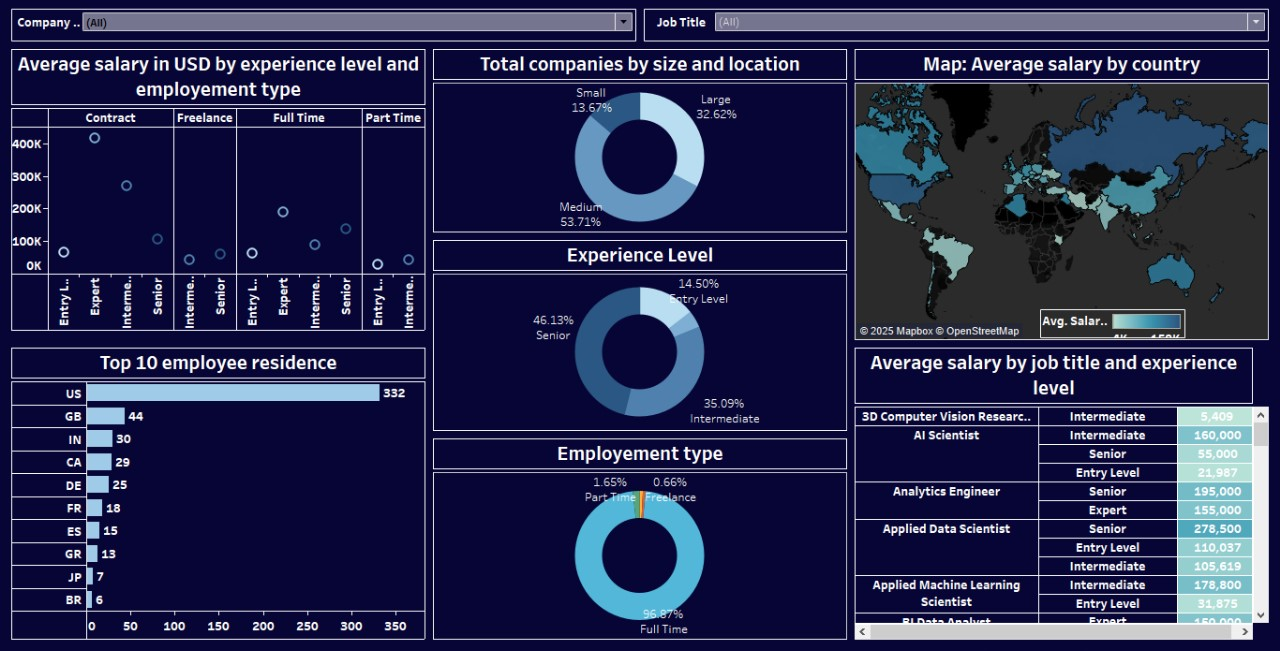

The dashboard page shown, as its layout file describes it:
{"tool":"tableau","page":{"name":"Dashboard 1","canvas":[1000,1000],"units":"permille","ordinal":0},"visuals":[{"type":"filter","title":"Average salary in USD by experience level and employement type","param":"[federated.0j86evq19c1a821avdxce0y3rmkb].[none:company_location:nk]","box":[6,14.5,493.9,61.2]},{"type":"filter","title":"Map: Average salary by country","param":"[federated.0j86evq19c1a821avdxce0y3rmkb].[none:job_title:nk]","box":[499.9,14.5,494.1,61.2]},{"type":"worksheet","title":"Average salary in USD by experience level and employement type","mark":"Shape","rows":["salary_in_usd"],"cols":["employment_type","experience_level"],"box":[6,75.7,329.2,454.6]},{"type":"worksheet","title":"Sheet 1","mark":"Pie","rows":["Calculation_540994962608250881","Calculation_540994962608275459"],"box":[335.1,75.7,329.4,290.2]},{"type":"worksheet","title":"Map: Average salary by country","mark":"Automatic","box":[664.5,75.7,329.5,454.6]},{"type":"worksheet","title":"Experience Level","mark":"Pie","rows":["Calculation_540994962608250881","Calculation_540994962608275459"],"box":[335.1,365.8,329.4,301.9]},{"type":"legend","title":"Map: Average salary by country","param":"[federated.0j86evq19c1a821avdxce0y3rmkb].[avg:salary_in_usd:qk]","box":[812.4,476.7,113.3,45]},{"type":"worksheet","title":"Top 10 employee residence","mark":"Automatic","rows":["employee_residence"],"cols":["employee_residence"],"box":[6,530.3,329.2,455.2]},{"type":"worksheet","title":"Average salary by job title and experience level","mark":"Square","rows":["job_title","experience_level"],"box":[664.5,530.3,329.5,455.2]},{"type":"worksheet","title":"Employement type","mark":"Pie","rows":["Calculation_540994962608250881","Calculation_540994962608275459"],"box":[335.1,667.7,329.4,317.8]}]}

Visuals, with their boxes on the dashboard's canvas, which has no fixed pixel size, in thousandths of its width and height (x1, y1, x2, y2). These are canvas units, not pixel positions in the 1280x651 screenshot, which may show the page scaled, cropped or inside an application window:
"Average salary in USD by experience level and employement type" filter: x1=6, y1=14, x2=500, y2=76
"Map: Average salary by country" filter: x1=500, y1=14, x2=994, y2=76
"Average salary in USD by experience level and employement type" worksheet (Shape marks): x1=6, y1=76, x2=335, y2=530
"Sheet 1" worksheet (Pie marks): x1=335, y1=76, x2=664, y2=366
"Map: Average salary by country" worksheet: x1=664, y1=76, x2=994, y2=530
"Experience Level" worksheet (Pie marks): x1=335, y1=366, x2=664, y2=668
"Map: Average salary by country" legend: x1=812, y1=477, x2=926, y2=522
"Top 10 employee residence" worksheet: x1=6, y1=530, x2=335, y2=986
"Average salary by job title and experience level" worksheet (Square marks): x1=664, y1=530, x2=994, y2=986
"Employement type" worksheet (Pie marks): x1=335, y1=668, x2=664, y2=986
